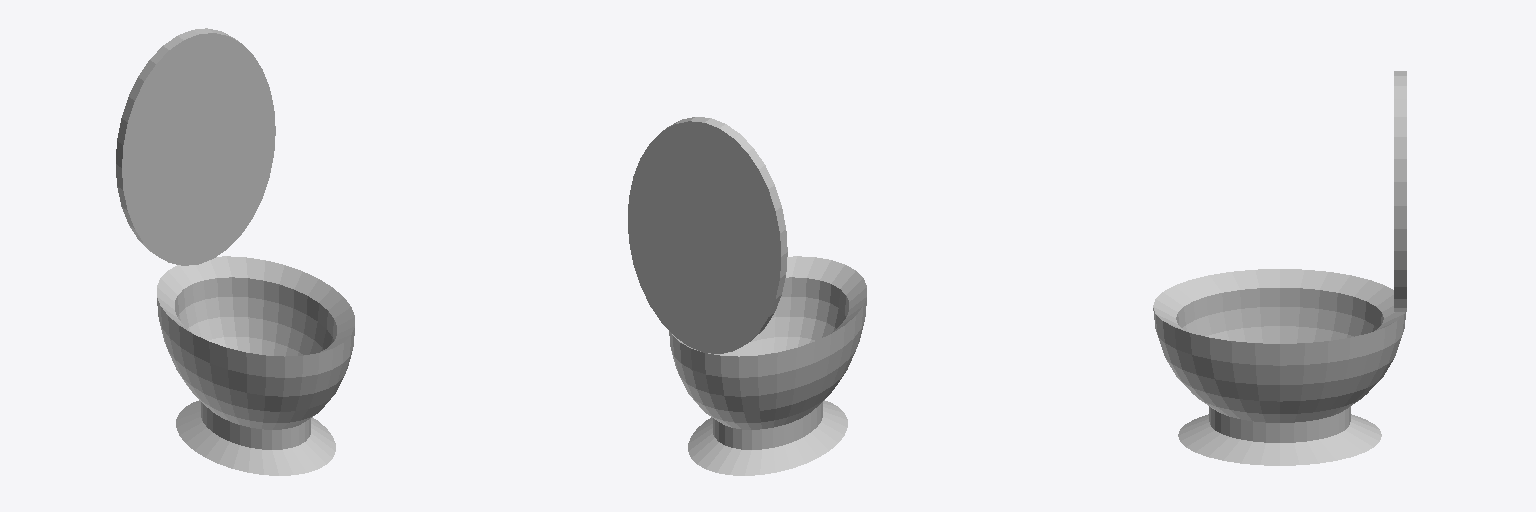
Rendered from klo.obj.
The picture shows the model from 3 angles: view 1: azimuth 30°, elevation 25°; view 2: azimuth 150°, elevation 25°; view 3: azimuth 270°, elevation 25°; orthographic projection.
Parts seen in each view (by area): view 1: Klo_Sphere; view 2: Klo_Sphere; view 3: Klo_Sphere.
Part boxes in pixels (x1,y1,x2,y2): Klo_Sphere: (116,28,354,475); Klo_Sphere: (628,117,866,475); Klo_Sphere: (1153,71,1406,465).
Size of the model in its own units: 2.8 by 6.25 by 4.